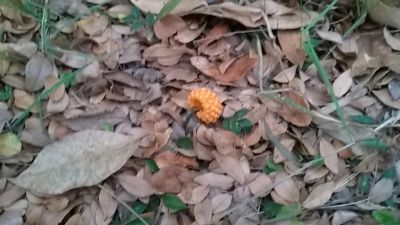eggs: (188, 88, 224, 125)
